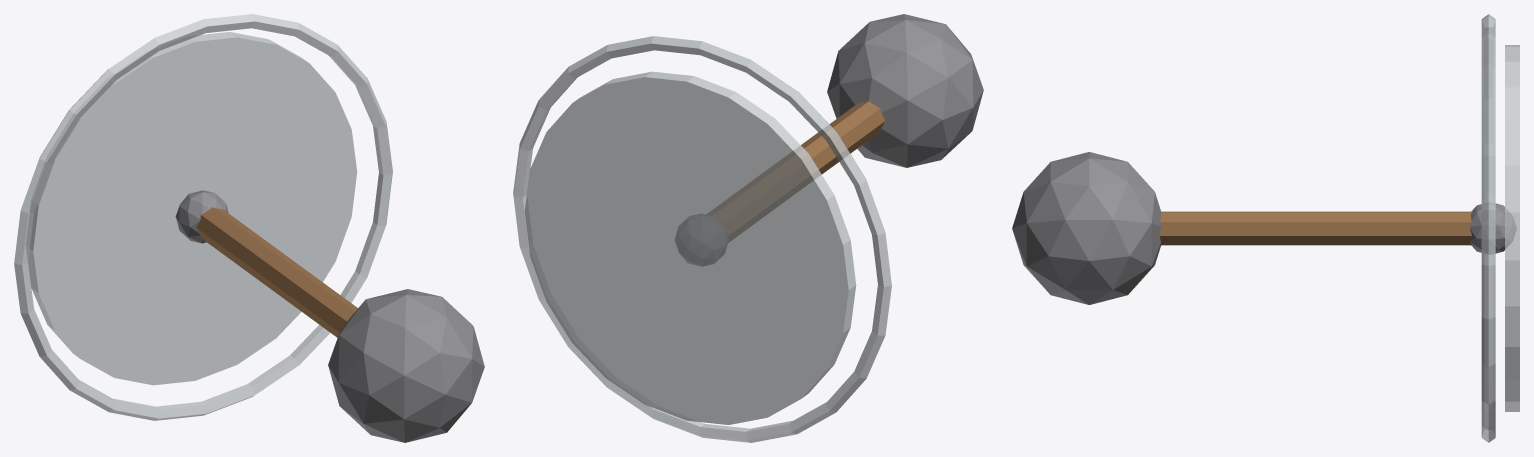
The model's file is weapon_pickup_mace_common.glb.
The picture shows the model from 3 angles, left to right: view 1: azimuth 30°, elevation 25°; view 2: azimuth 150°, elevation 25°; view 3: azimuth 270°, elevation 25°; orthographic projection.
Parts seen in each view (by area): view 1: rarity_base_disc, head, rarity_orbit_ring, handle, pommel; view 2: rarity_base_disc, rarity_orbit_ring, head, handle, pommel; view 3: head, handle, rarity_orbit_ring, rarity_base_disc, pommel.
Boxes of the visible parts, x1,y1,x2,y2 form: rarity_base_disc: [26, 32, 357, 385]; head: [328, 289, 484, 442]; rarity_orbit_ring: [14, 14, 392, 420]; handle: [196, 207, 357, 337]; pommel: [175, 190, 228, 243]; rarity_base_disc: [524, 71, 856, 424]; rarity_orbit_ring: [513, 36, 891, 442]; head: [827, 14, 983, 167]; handle: [707, 101, 884, 241]; pommel: [675, 214, 728, 265]; head: [1012, 152, 1161, 304]; handle: [1159, 211, 1471, 245]; rarity_orbit_ring: [1481, 14, 1495, 442]; rarity_base_disc: [1505, 45, 1519, 411]; pommel: [1470, 202, 1516, 254].
Size of the model in its own units: 1.45 by 1.45 by 1.71.
